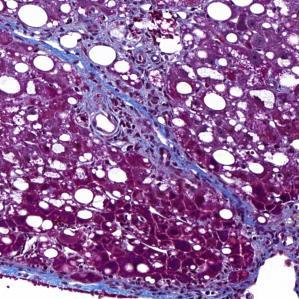fibrosis: (71, 43, 152, 133), (237, 202, 299, 260)
